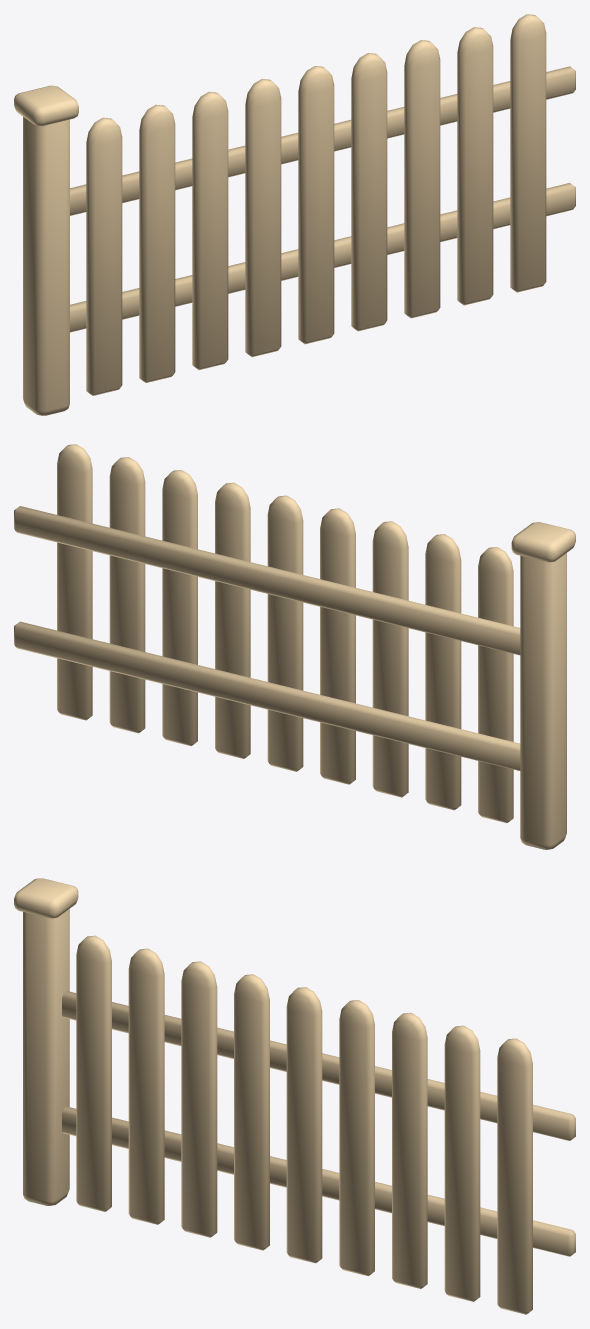
The model's file is fence-picket-cream.glb.
The picture shows the model from 3 angles, top to bottom: view 1: azimuth 30°, elevation 25°; view 2: azimuth 150°, elevation 25°; view 3: azimuth 330°, elevation 25°; orthographic projection.
Visible parts, largest first — view 1: body; view 2: body; view 3: body.
Boxes of the visible parts, <box> form: body: <box>14,14,575,415</box>; body: <box>14,444,575,849</box>; body: <box>14,878,575,1314</box>.
Bounding box in the file's own units: 2.09 × 1.13 × 0.17.
